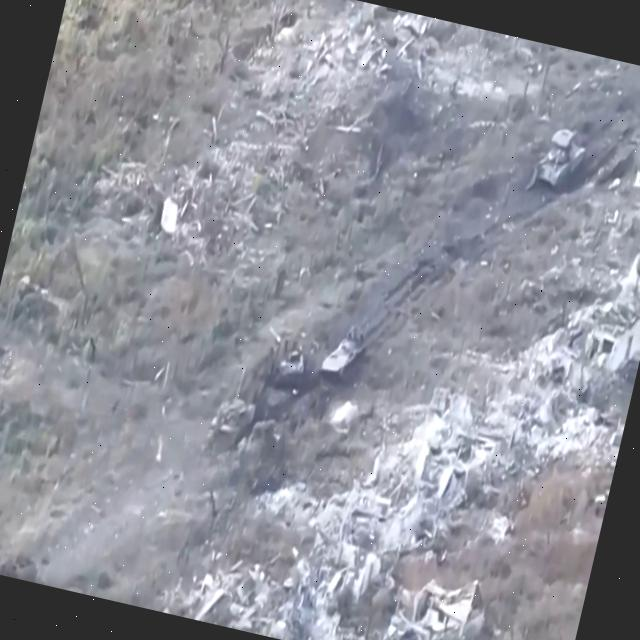AIFV: (318, 322, 366, 392), (271, 339, 310, 390)
MBT: (529, 116, 595, 204), (206, 361, 266, 453)
